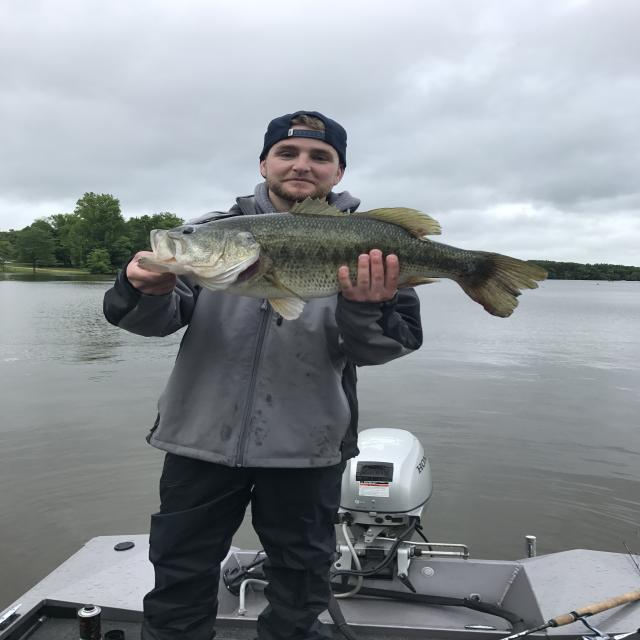Bass - Largemouth: (139, 199, 547, 320)
